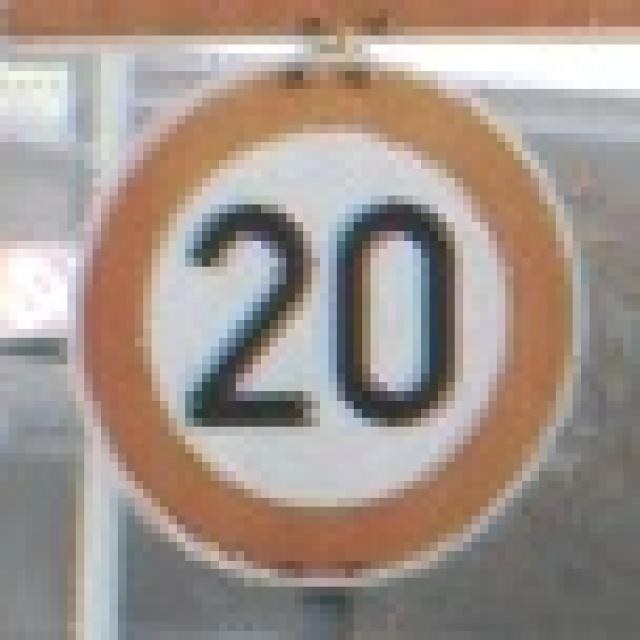Speed Limit -20-: (59, 53, 589, 587)
